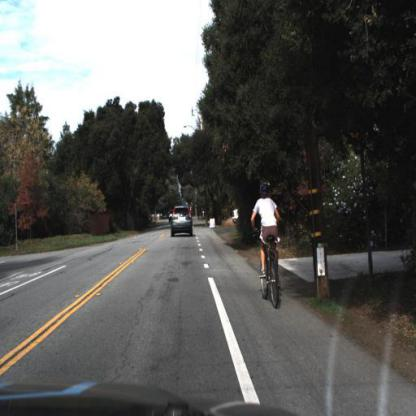biker: (249, 174, 288, 311)
car: (165, 199, 198, 246), (230, 205, 241, 229)
